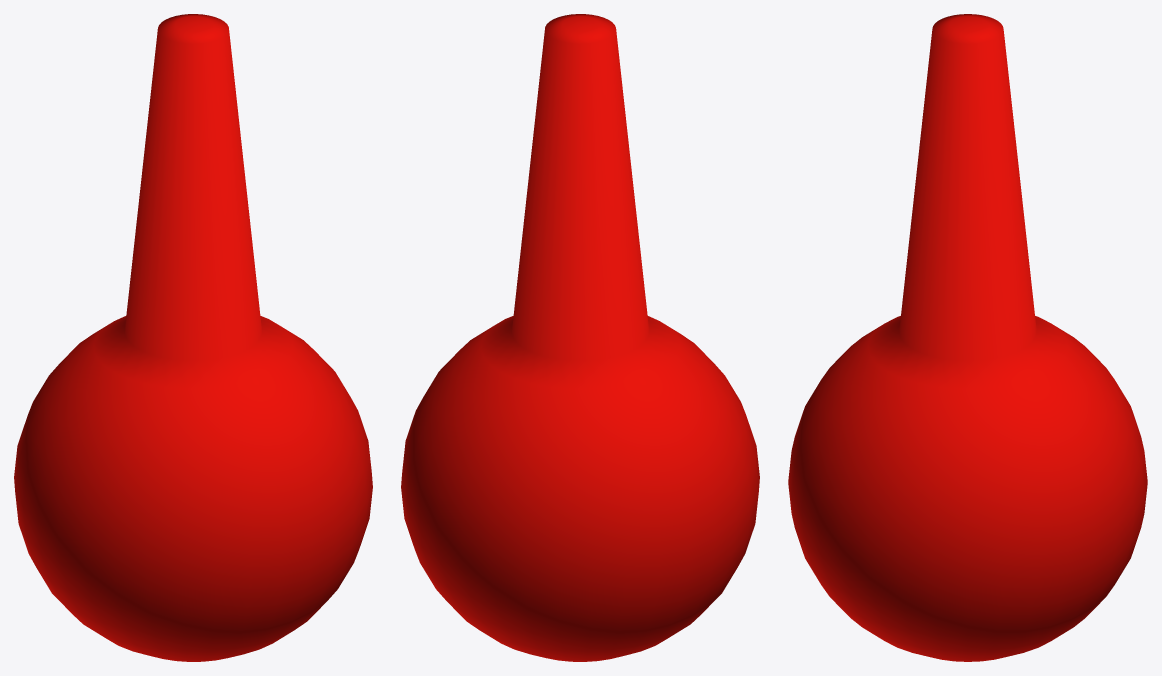
File: Buoy.fbx
3 renders of one model, left to right at view 1: azimuth 30°, elevation 25°; view 2: azimuth 150°, elevation 25°; view 3: azimuth 270°, elevation 25°, orthographic.
Visible parts, largest first — view 1: Sphere; view 2: Sphere; view 3: Sphere.
Part boxes in pixels (<box>): Sphere: <box>14,14,372,661</box>; Sphere: <box>401,14,759,661</box>; Sphere: <box>788,14,1147,661</box>.
Size of the model in its own units: 200 by 382 by 200.
